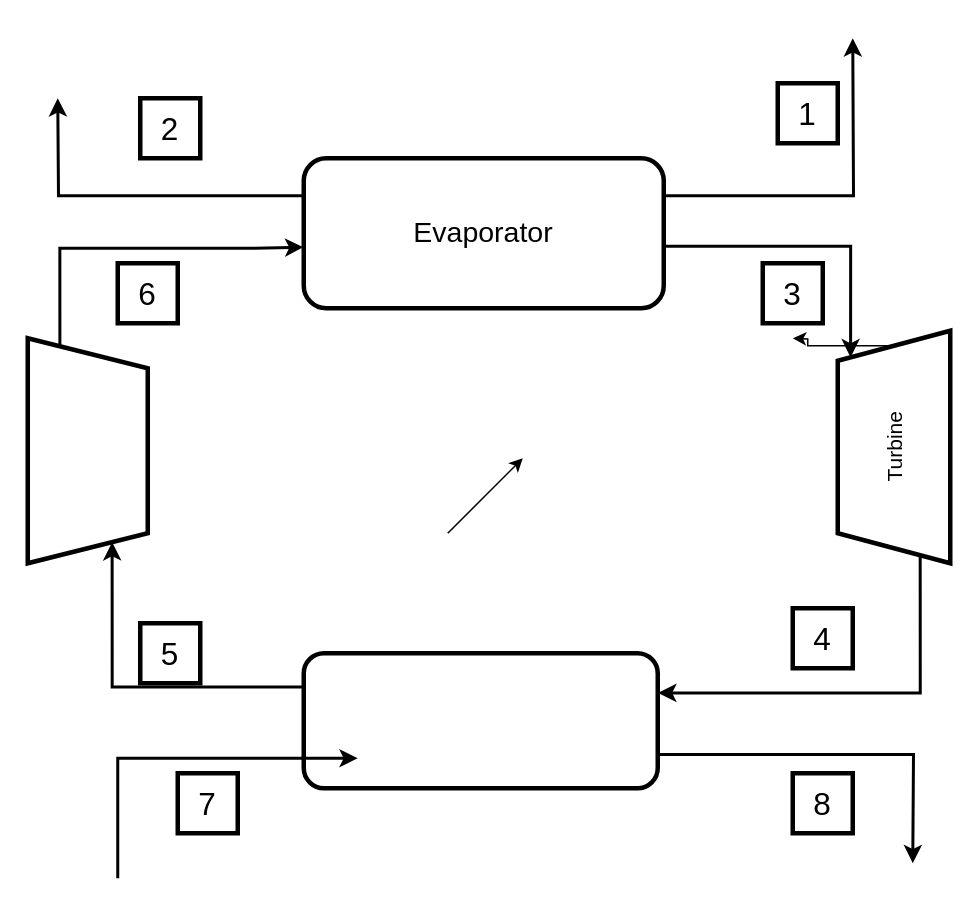
Image size: 978x917. Some labels were removed from this diagram. Here are the shapes that lost their labels. From the top down, the centre of each, then its label:
At (87,450): "Pump".
At (480,720): "Condenser".
